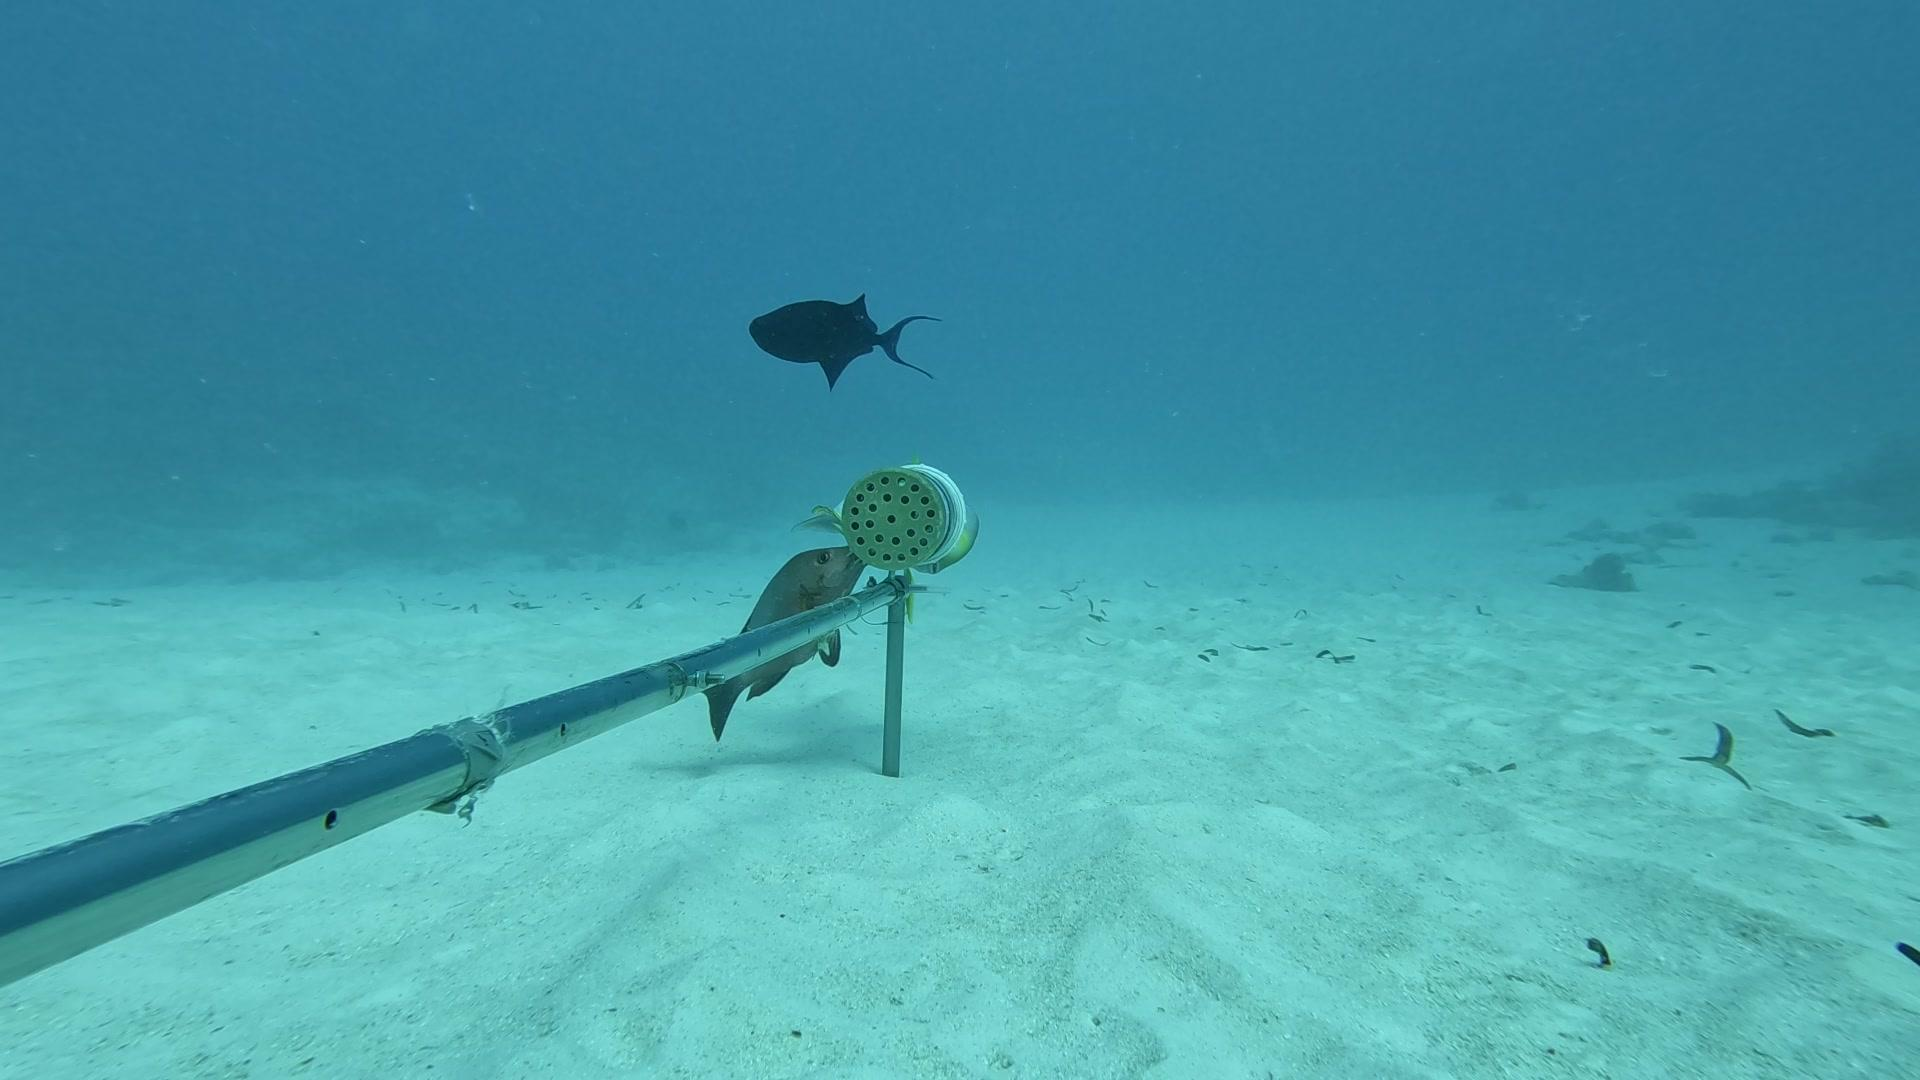fish: (674, 537, 877, 752), (737, 261, 947, 415)
